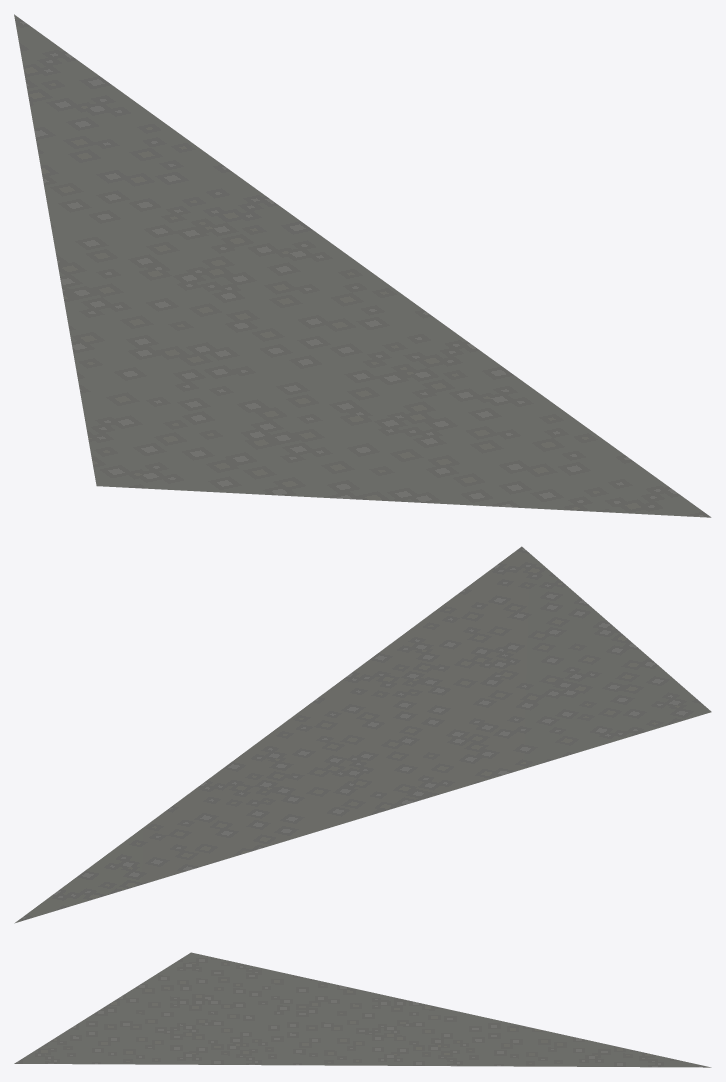
The model's file is kd_stage_135fe0_0_22_bounded.glb.
3 views of the same model, one above another, from view 1: azimuth 30°, elevation 25°; view 2: azimuth 150°, elevation 25°; view 3: azimuth 270°, elevation 25° (orthographic). The views are drawn at different scales.
Parts seen in each view (by area): view 1: kd_stage_135fe0_0_22_bounded; view 2: kd_stage_135fe0_0_22_bounded; view 3: kd_stage_135fe0_0_22_bounded.
Part boxes in pixels (box(x1,y1,x2,y2)): kd_stage_135fe0_0_22_bounded: box(14, 14, 711, 517); kd_stage_135fe0_0_22_bounded: box(14, 546, 711, 923); kd_stage_135fe0_0_22_bounded: box(14, 952, 711, 1067).
Bounding box in the file's own units: 1.59 × 0.0565 × 4.39.
Materials: 1 (1 with a texture image).
